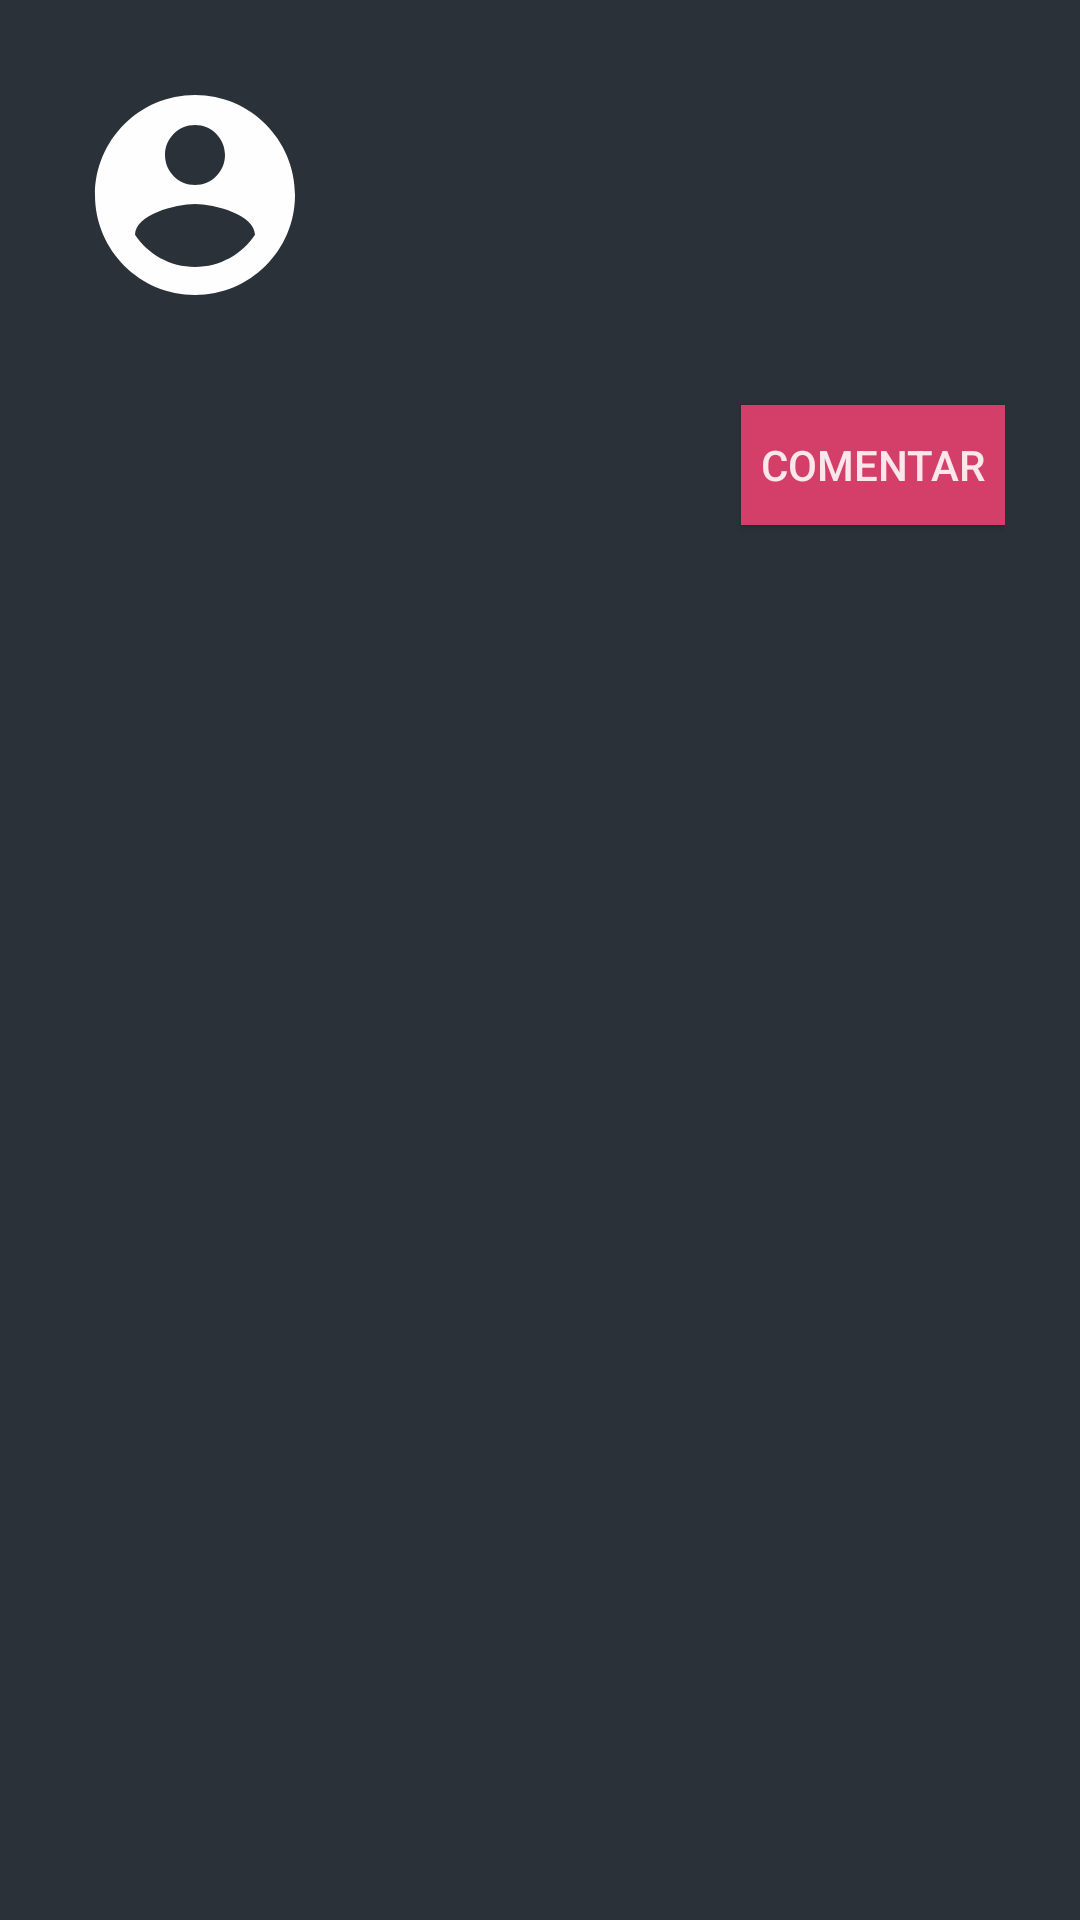

Icons on this 1080px x 1920px Android screen, each with the point to tap as point (x, y):
account circle: point (195, 195)
